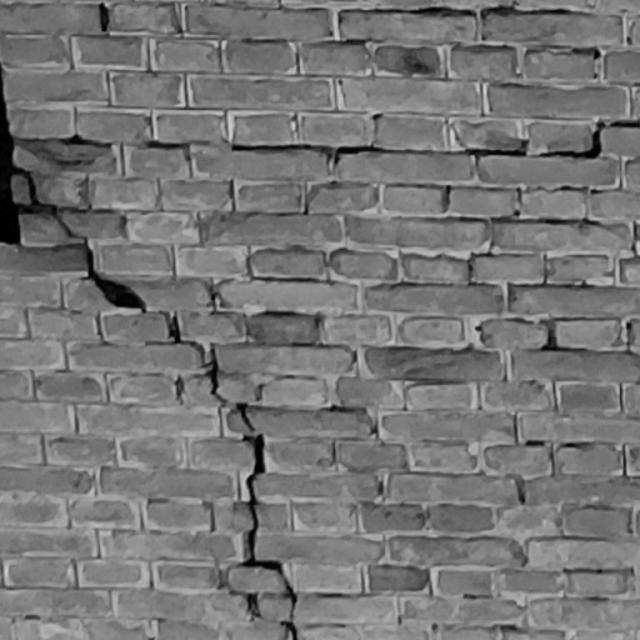crack: (10, 166, 298, 640), (12, 119, 640, 159)
